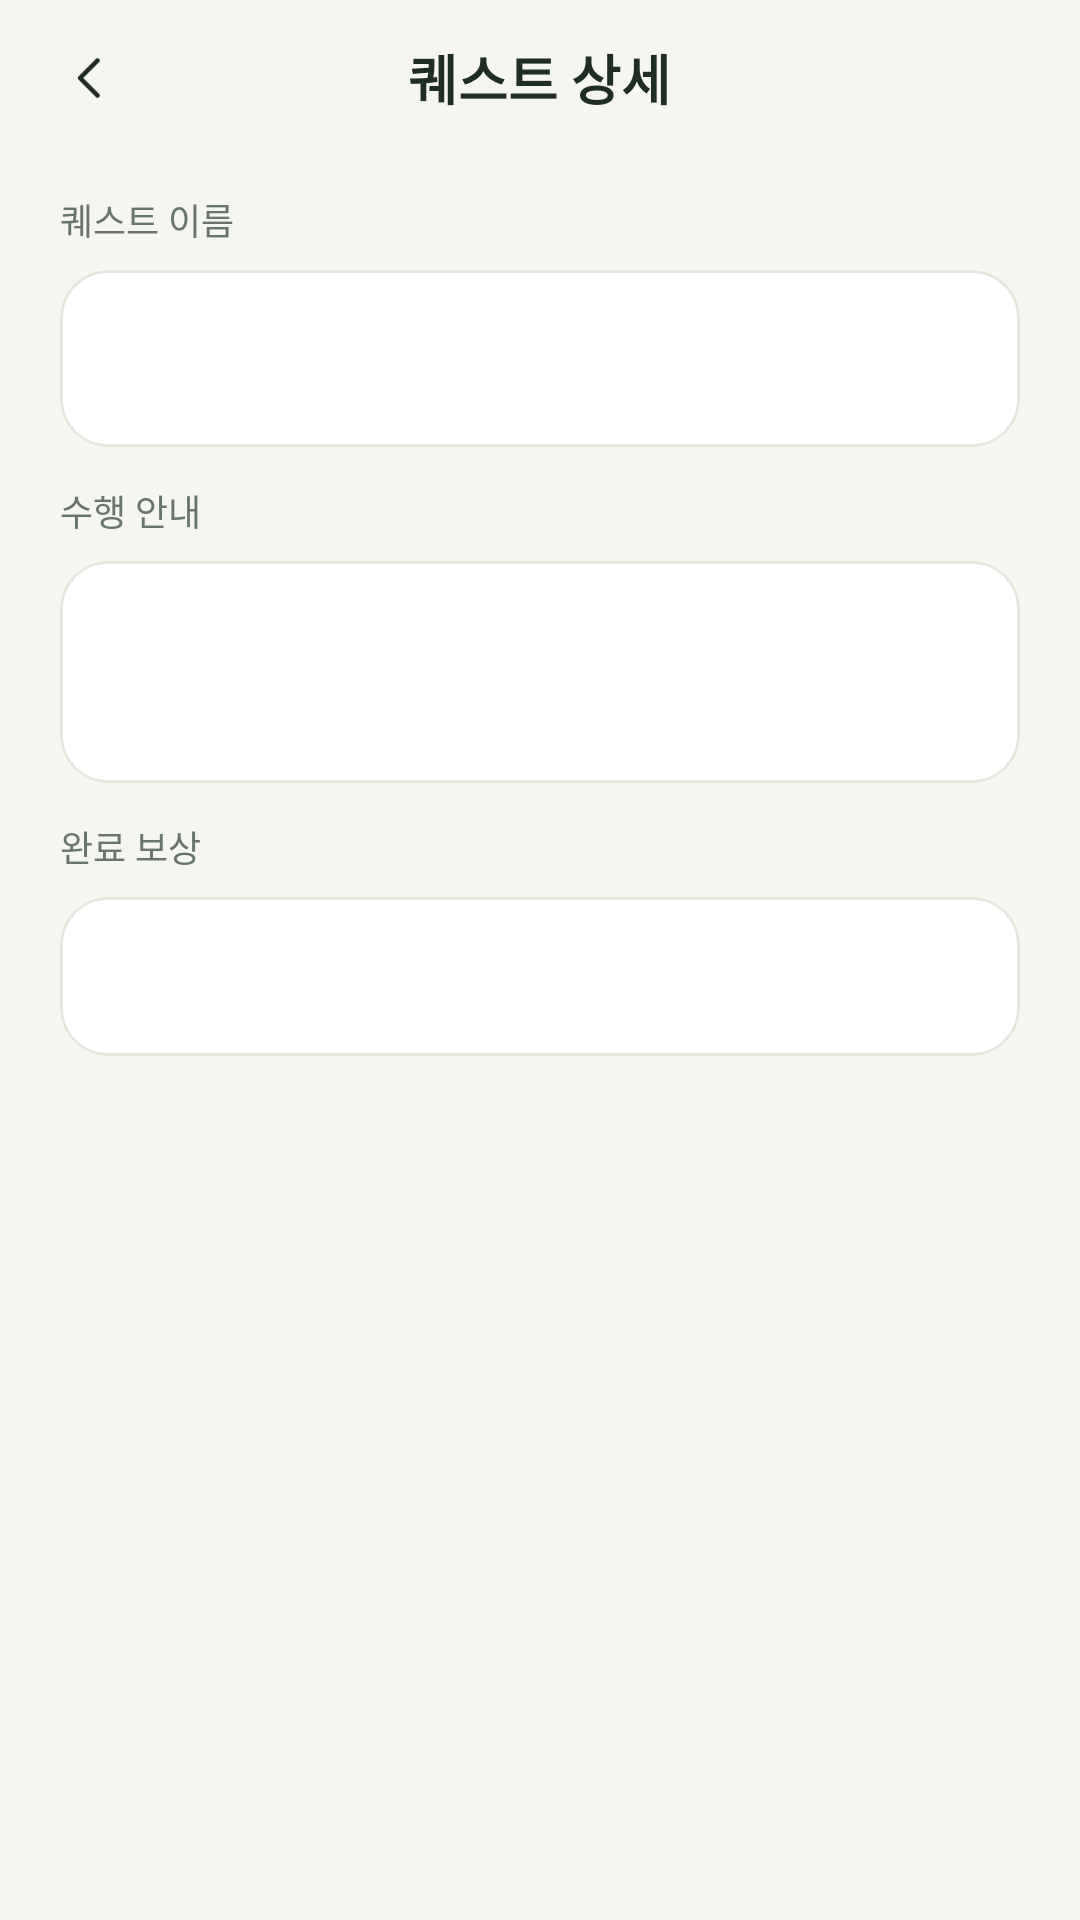

Icon bounding boxes for this 1080 x 1920 phone screenshot, format bbox(x1, y1, x2, y2):
뒤로 가기: bbox(77, 58, 100, 98)
